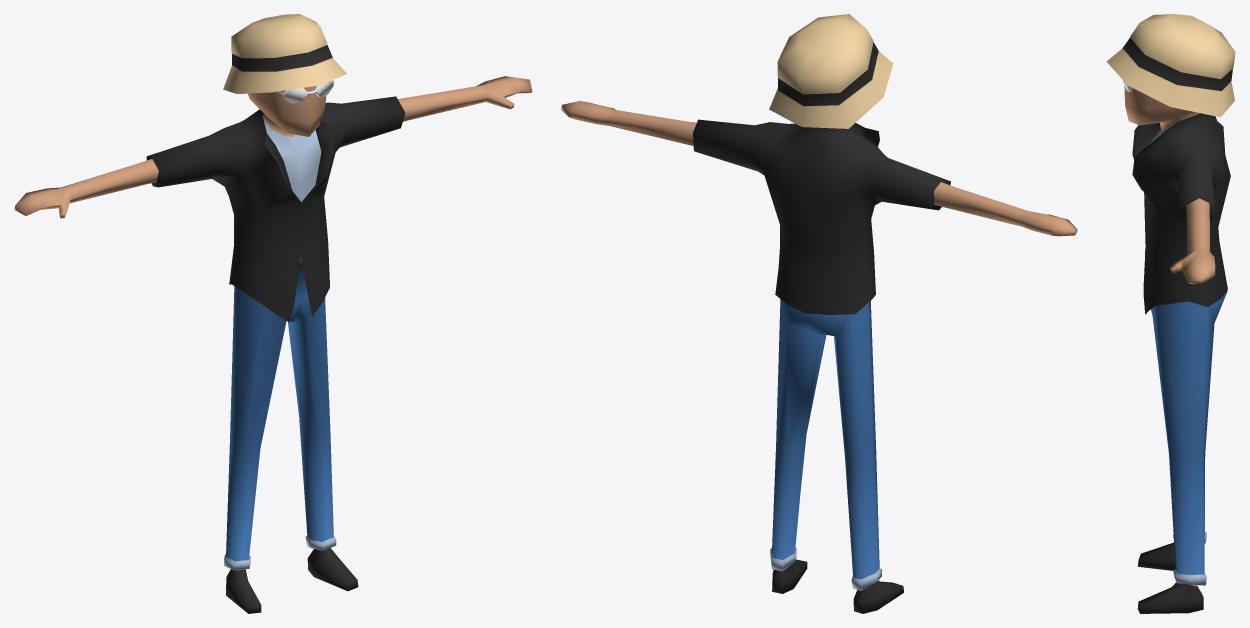
The model's file is Male_1sm.FBX.
3 renders of one model, left to right at view 1: azimuth 30°, elevation 25°; view 2: azimuth 150°, elevation 25°; view 3: azimuth 270°, elevation 25°, orthographic.
Parts seen in each view (by area): view 1: shirt001, pants001, Cylinder003, Hat001; view 2: shirt001, pants001, Hat001, Cylinder003; view 3: shirt001, pants001, Hat001, Cylinder003.
Boxes of the visible parts, x1,y1,x2,y2 form: shirt001: (146, 96, 405, 322); pants001: (224, 257, 336, 570); Cylinder003: (14, 76, 532, 613); Hat001: (223, 14, 346, 93); shirt001: (693, 119, 950, 314); pants001: (770, 299, 882, 590); Hat001: (769, 14, 893, 128); Cylinder003: (561, 101, 1077, 613); shirt001: (1132, 113, 1230, 314); pants001: (1145, 251, 1227, 585); Hat001: (1106, 14, 1235, 117); Cylinder003: (1124, 86, 1215, 613).
Size of the model in its own units: 170 by 180 by 37.07.
